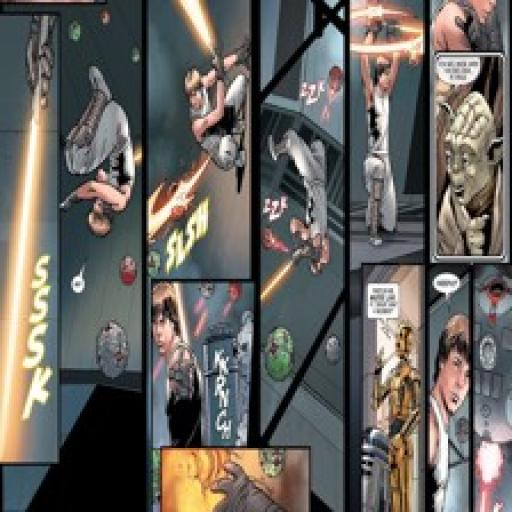lightsaber: (0, 15, 48, 456), (176, 0, 228, 82)
